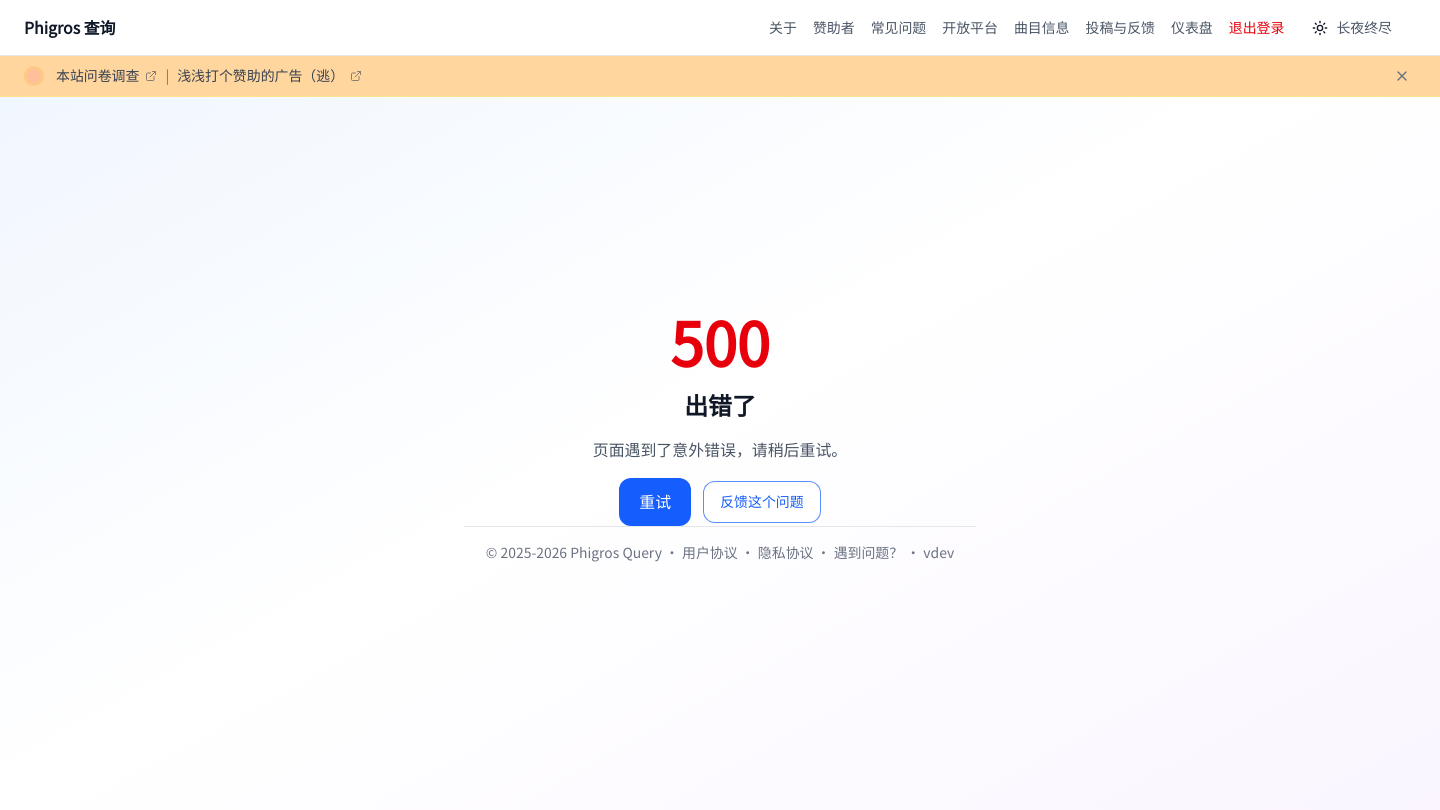
ErrorPage › 点击反馈按钮打开反馈弹窗
The width and height of the screenshot is (1440, 810).
Click the button "反馈这个问题".
click(762, 502)  # box left=703, top=480, right=821, bottom=522
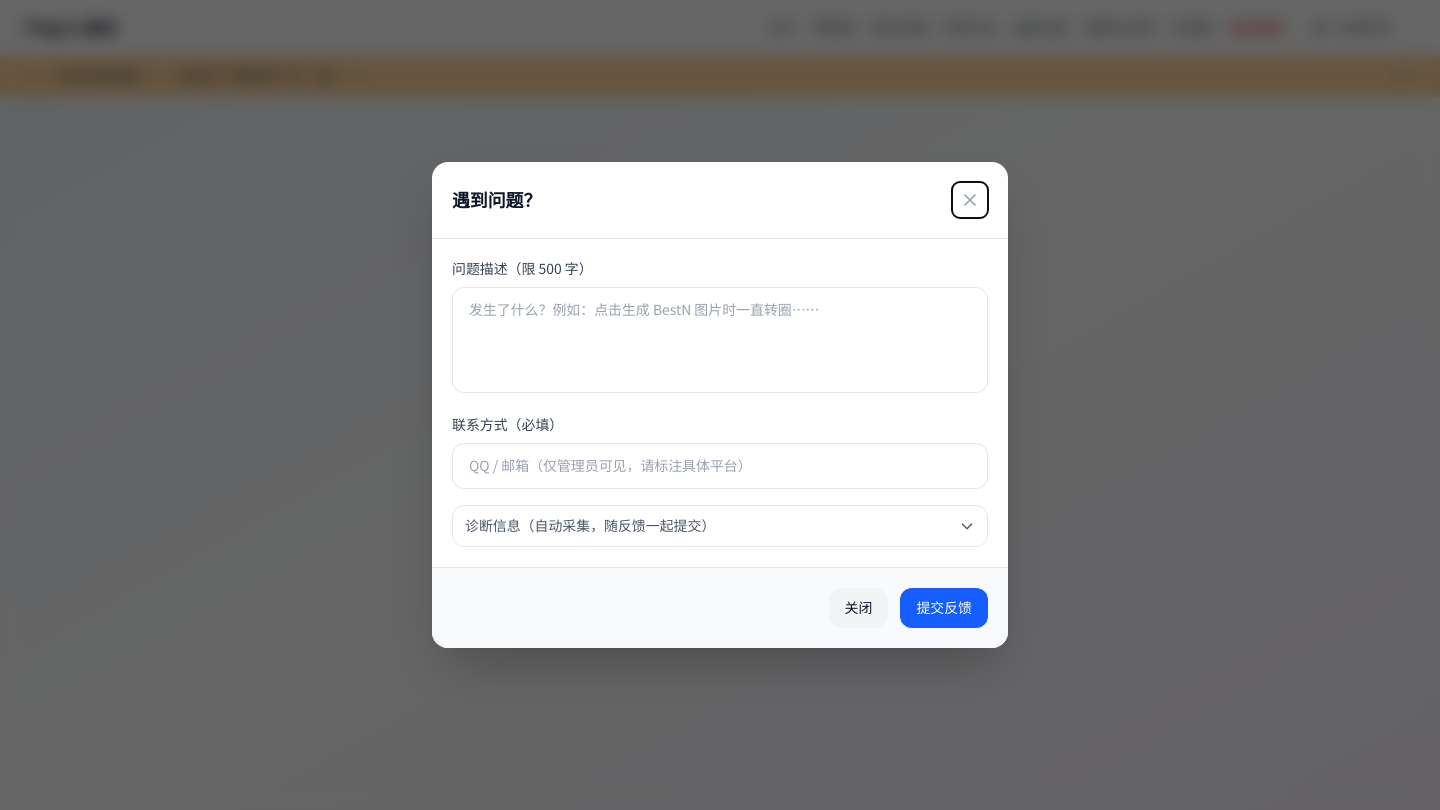
Expected: the dialog "遇到问题？" is shown, left=432, top=162, right=1008, bottom=648
